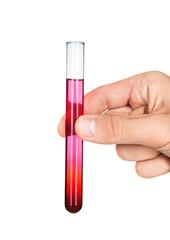Test tube: (53, 33, 97, 213)
